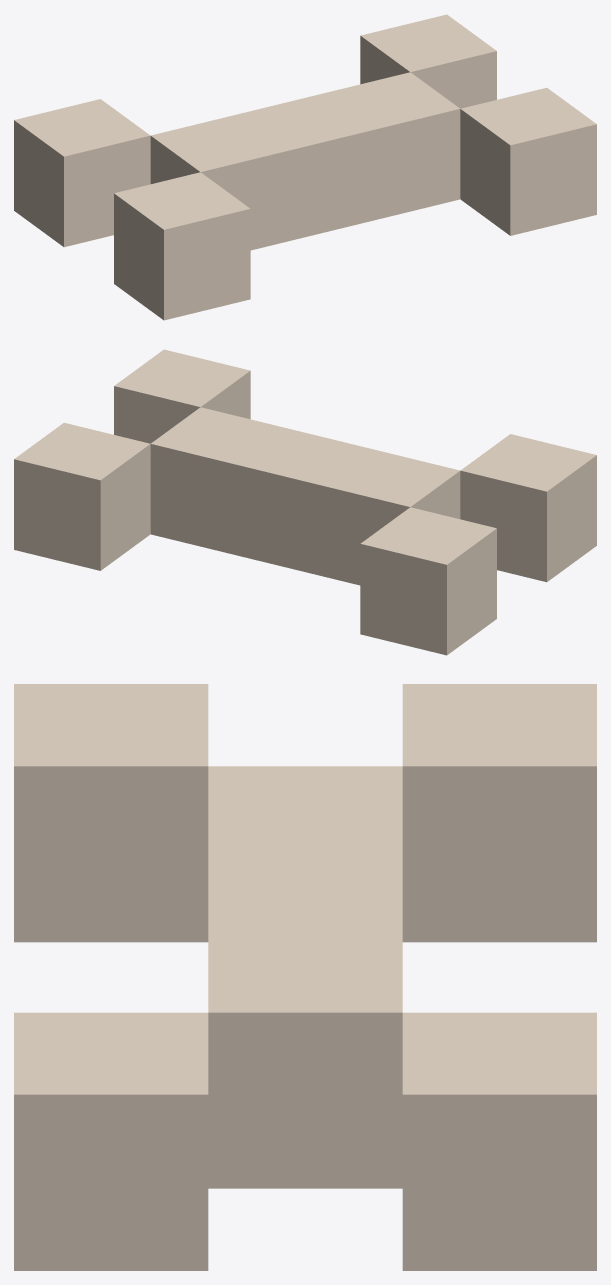
The model's file is bone.obj.
3 renders of one model, top to bottom at view 1: azimuth 30°, elevation 25°; view 2: azimuth 150°, elevation 25°; view 3: azimuth 270°, elevation 25°, orthographic. The views are drawn at different scales.
Parts seen in each view (by area): view 1: Matrix; view 2: Matrix; view 3: Matrix.
Part boxes in pixels (bbox=[...]): Matrix: bbox=[14, 14, 596, 320]; Matrix: bbox=[14, 349, 596, 655]; Matrix: bbox=[14, 684, 596, 1270].
Bounding box in the file's own units: 5 × 1 × 3.
Materials: 1 (1 with a texture image).
